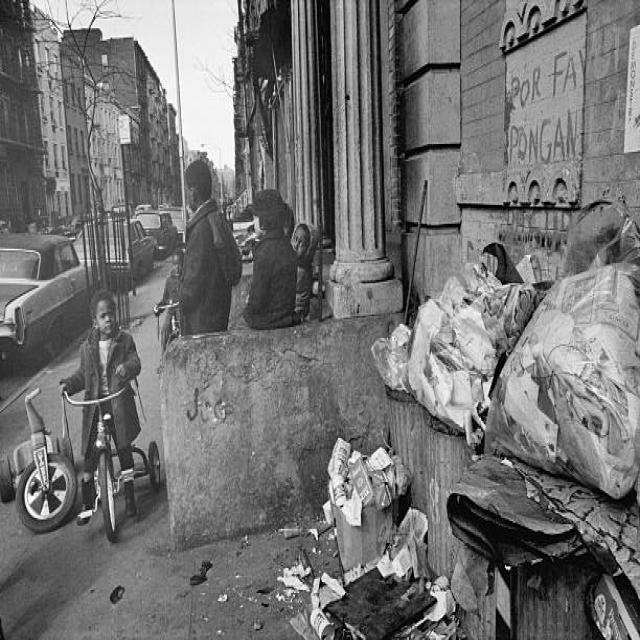trash: (385, 227, 639, 491), (301, 427, 448, 634)
